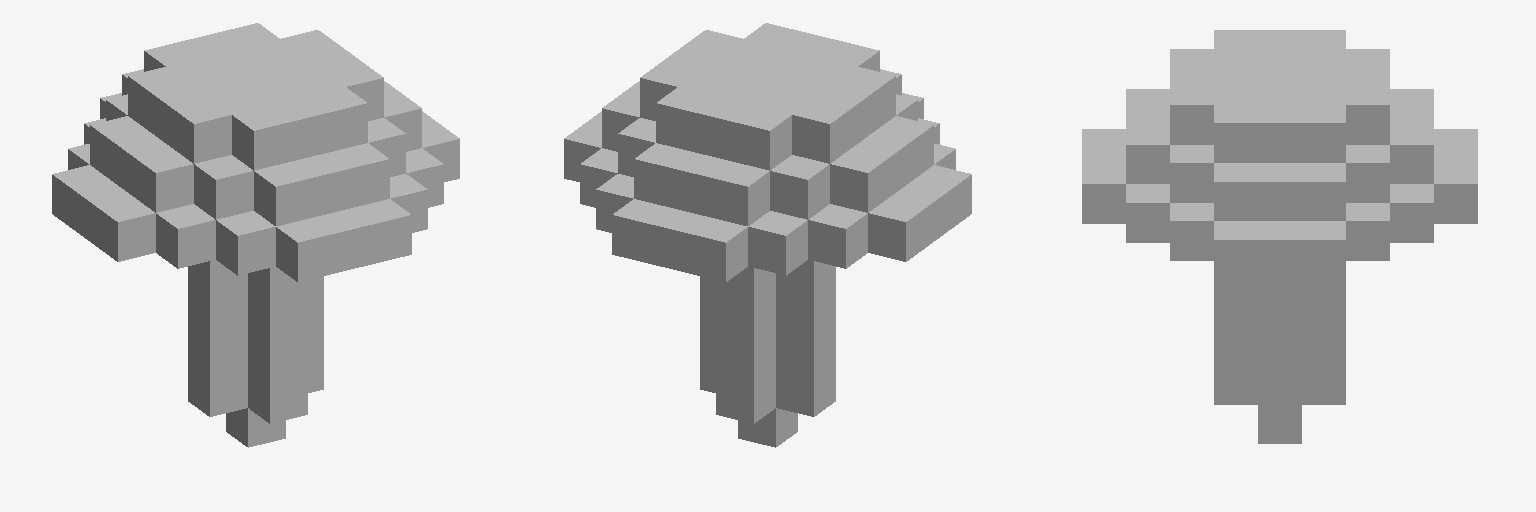
File: mushroom.obj
The picture shows the model from 3 angles: view 1: azimuth 30°, elevation 25°; view 2: azimuth 150°, elevation 25°; view 3: azimuth 270°, elevation 25°; orthographic projection.
Visible parts, largest first — view 1: object 1; view 2: object 1; view 3: object 1.
Part boxes in pixels (x1,y1,x2,y2): object 1: (52,23,459,447); object 1: (564,23,971,447); object 1: (1082,30,1477,443).
Bounding box in the file's own units: 0.9 × 0.9 × 0.9.